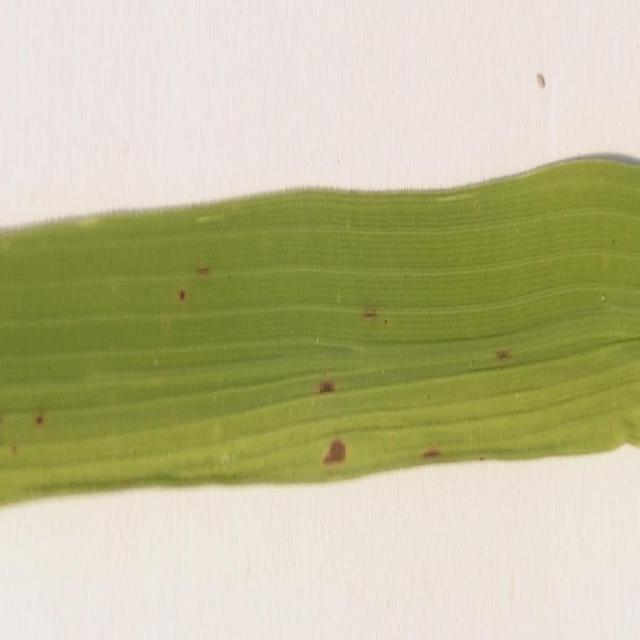Rice_Brownspot: (313, 356, 354, 468), (24, 390, 47, 440), (192, 250, 219, 285), (416, 440, 446, 460), (172, 276, 186, 306)
